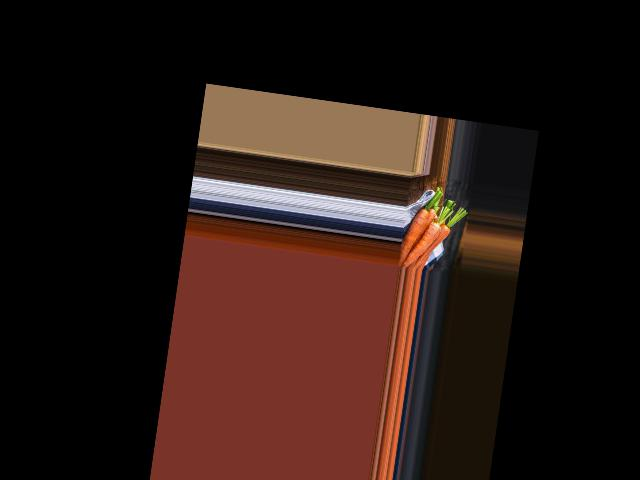carrot: (397, 198, 430, 269)
